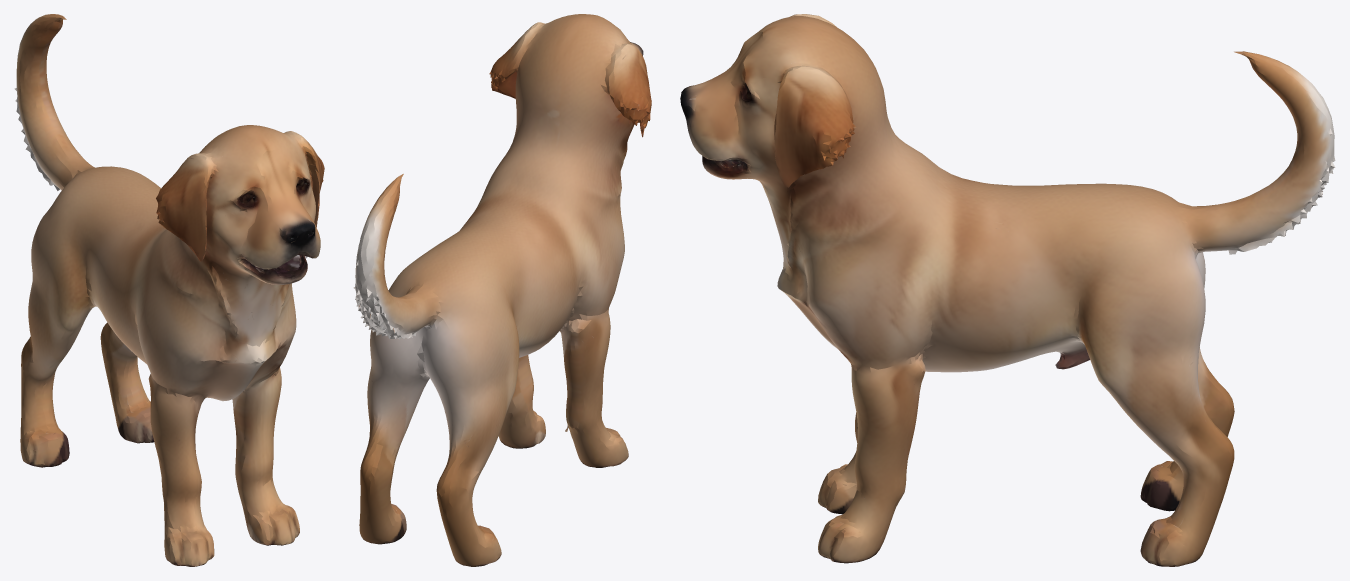
Rendered from puppy-original.glb.
The picture shows the model from 3 angles, left to right: view 1: azimuth 30°, elevation 25°; view 2: azimuth 150°, elevation 25°; view 3: azimuth 270°, elevation 25°; orthographic projection. The views are drawn at different scales.
Visible parts, largest first — view 1: model; view 2: model; view 3: model.
Part boxes in pixels (x1,y1,x2,y2): model: [14, 14, 324, 566]; model: [353, 14, 651, 566]; model: [680, 14, 1335, 566].
Bounding box in the file's own units: 0.6454 × 1.62 × 1.9.
Materials: 1 (1 with a texture image).
